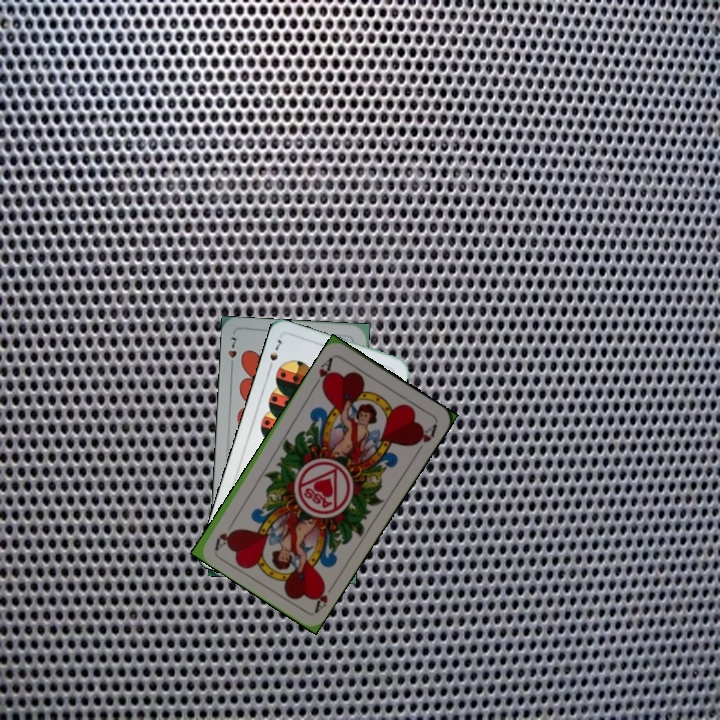H7: (224, 333, 239, 372)
HA: (309, 579, 338, 615), (310, 353, 336, 391)
S7: (264, 335, 284, 373)
